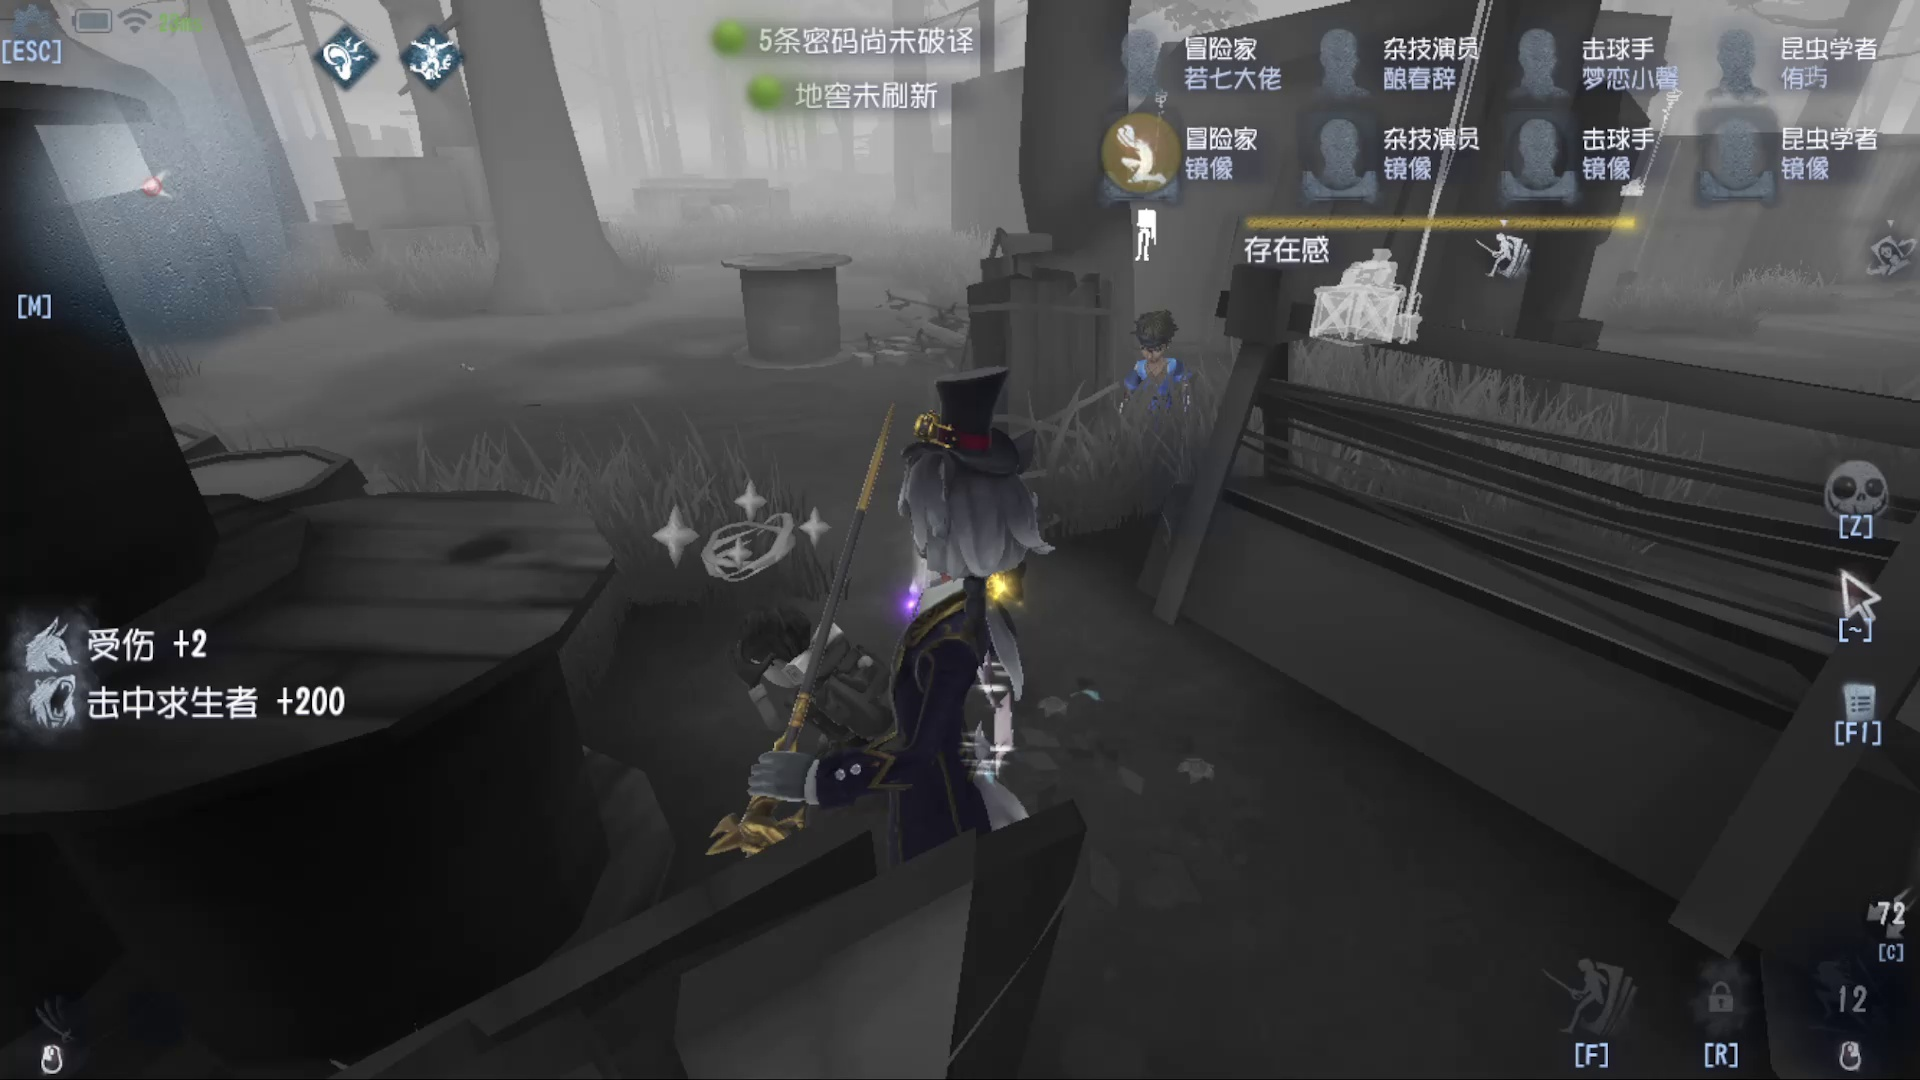密码机: (1270, 257, 1458, 353)
求生者: (765, 595, 882, 725), (1121, 313, 1197, 464)
